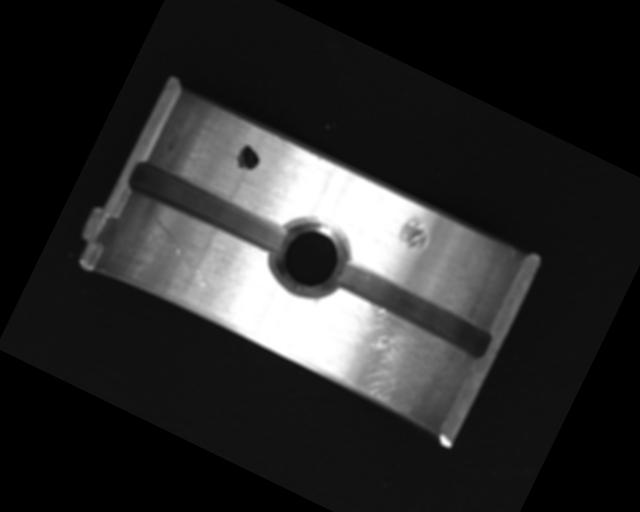blot: (232, 141, 265, 175)
bruise: (394, 210, 435, 254)
gap: (327, 256, 497, 363), (125, 156, 288, 256)
hole: (259, 205, 360, 309)
nick: (135, 215, 225, 290)
scratch: (295, 283, 471, 429)
